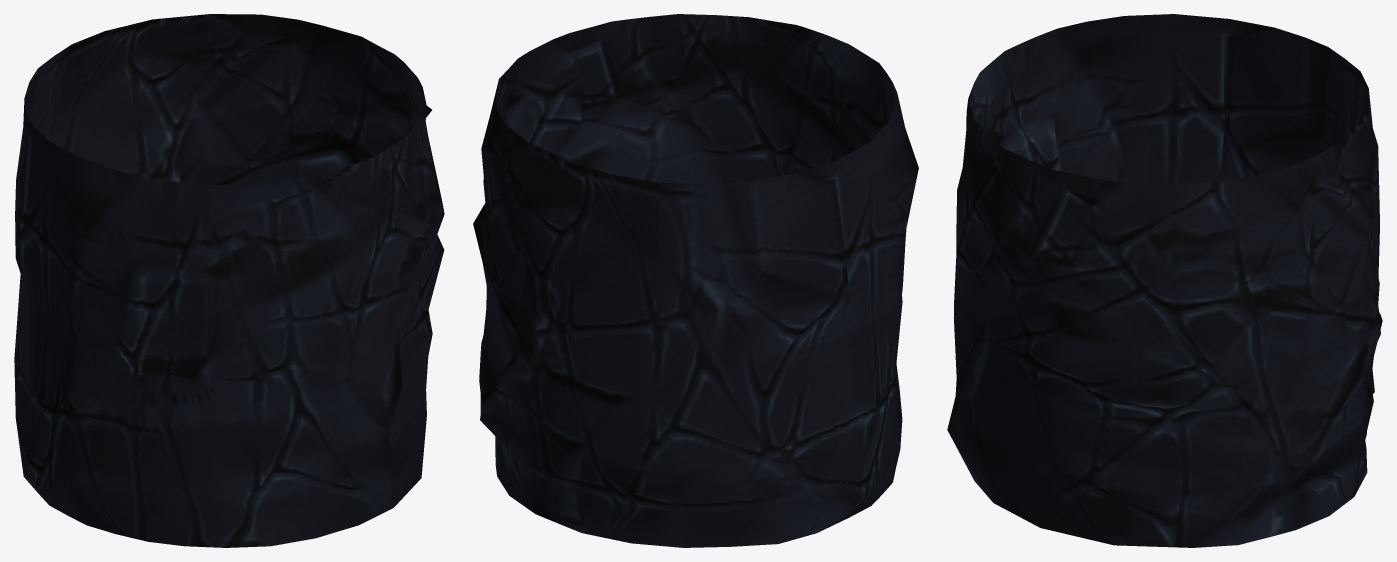
Rendered from FinalTubo.fbx.
3 views of the same model, side by side, from view 1: azimuth 30°, elevation 25°; view 2: azimuth 150°, elevation 25°; view 3: azimuth 270°, elevation 25° (orthographic).
Parts seen in each view (by area): view 1: polySurface5; view 2: polySurface5; view 3: polySurface5.
Part boxes in pixels (bbox=[...]): polySurface5: bbox=[14, 14, 444, 547]; polySurface5: bbox=[473, 14, 918, 547]; polySurface5: bbox=[947, 14, 1382, 547].
Size of the model in its own units: 532 by 498 by 535.
